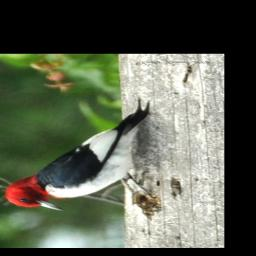Woodpecker: (5, 100, 149, 212)
